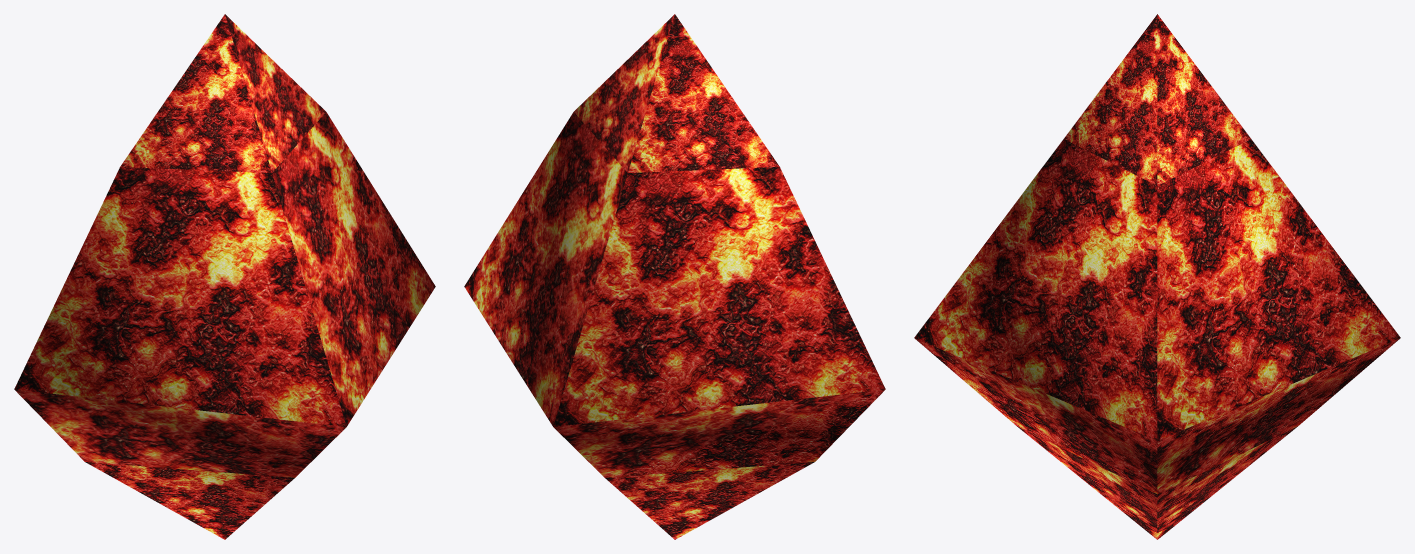
File: seed_red.fbx
The picture shows the model from 3 angles, left to right: view 1: azimuth 30°, elevation 25°; view 2: azimuth 150°, elevation 25°; view 3: azimuth 270°, elevation 25°; orthographic projection.
Parts seen in each view (by area): view 1: GeoSphere002; view 2: GeoSphere002; view 3: GeoSphere002.
Part boxes in pixels (x1=…): GeoSphere002: x1=14, y1=14, x2=435, y2=539; GeoSphere002: x1=464, y1=14, x2=885, y2=539; GeoSphere002: x1=914, y1=14, x2=1400, y2=539.
Bounding box in the file's own units: 49.24 × 58.7 × 49.24.
1 material, 1 textured.
